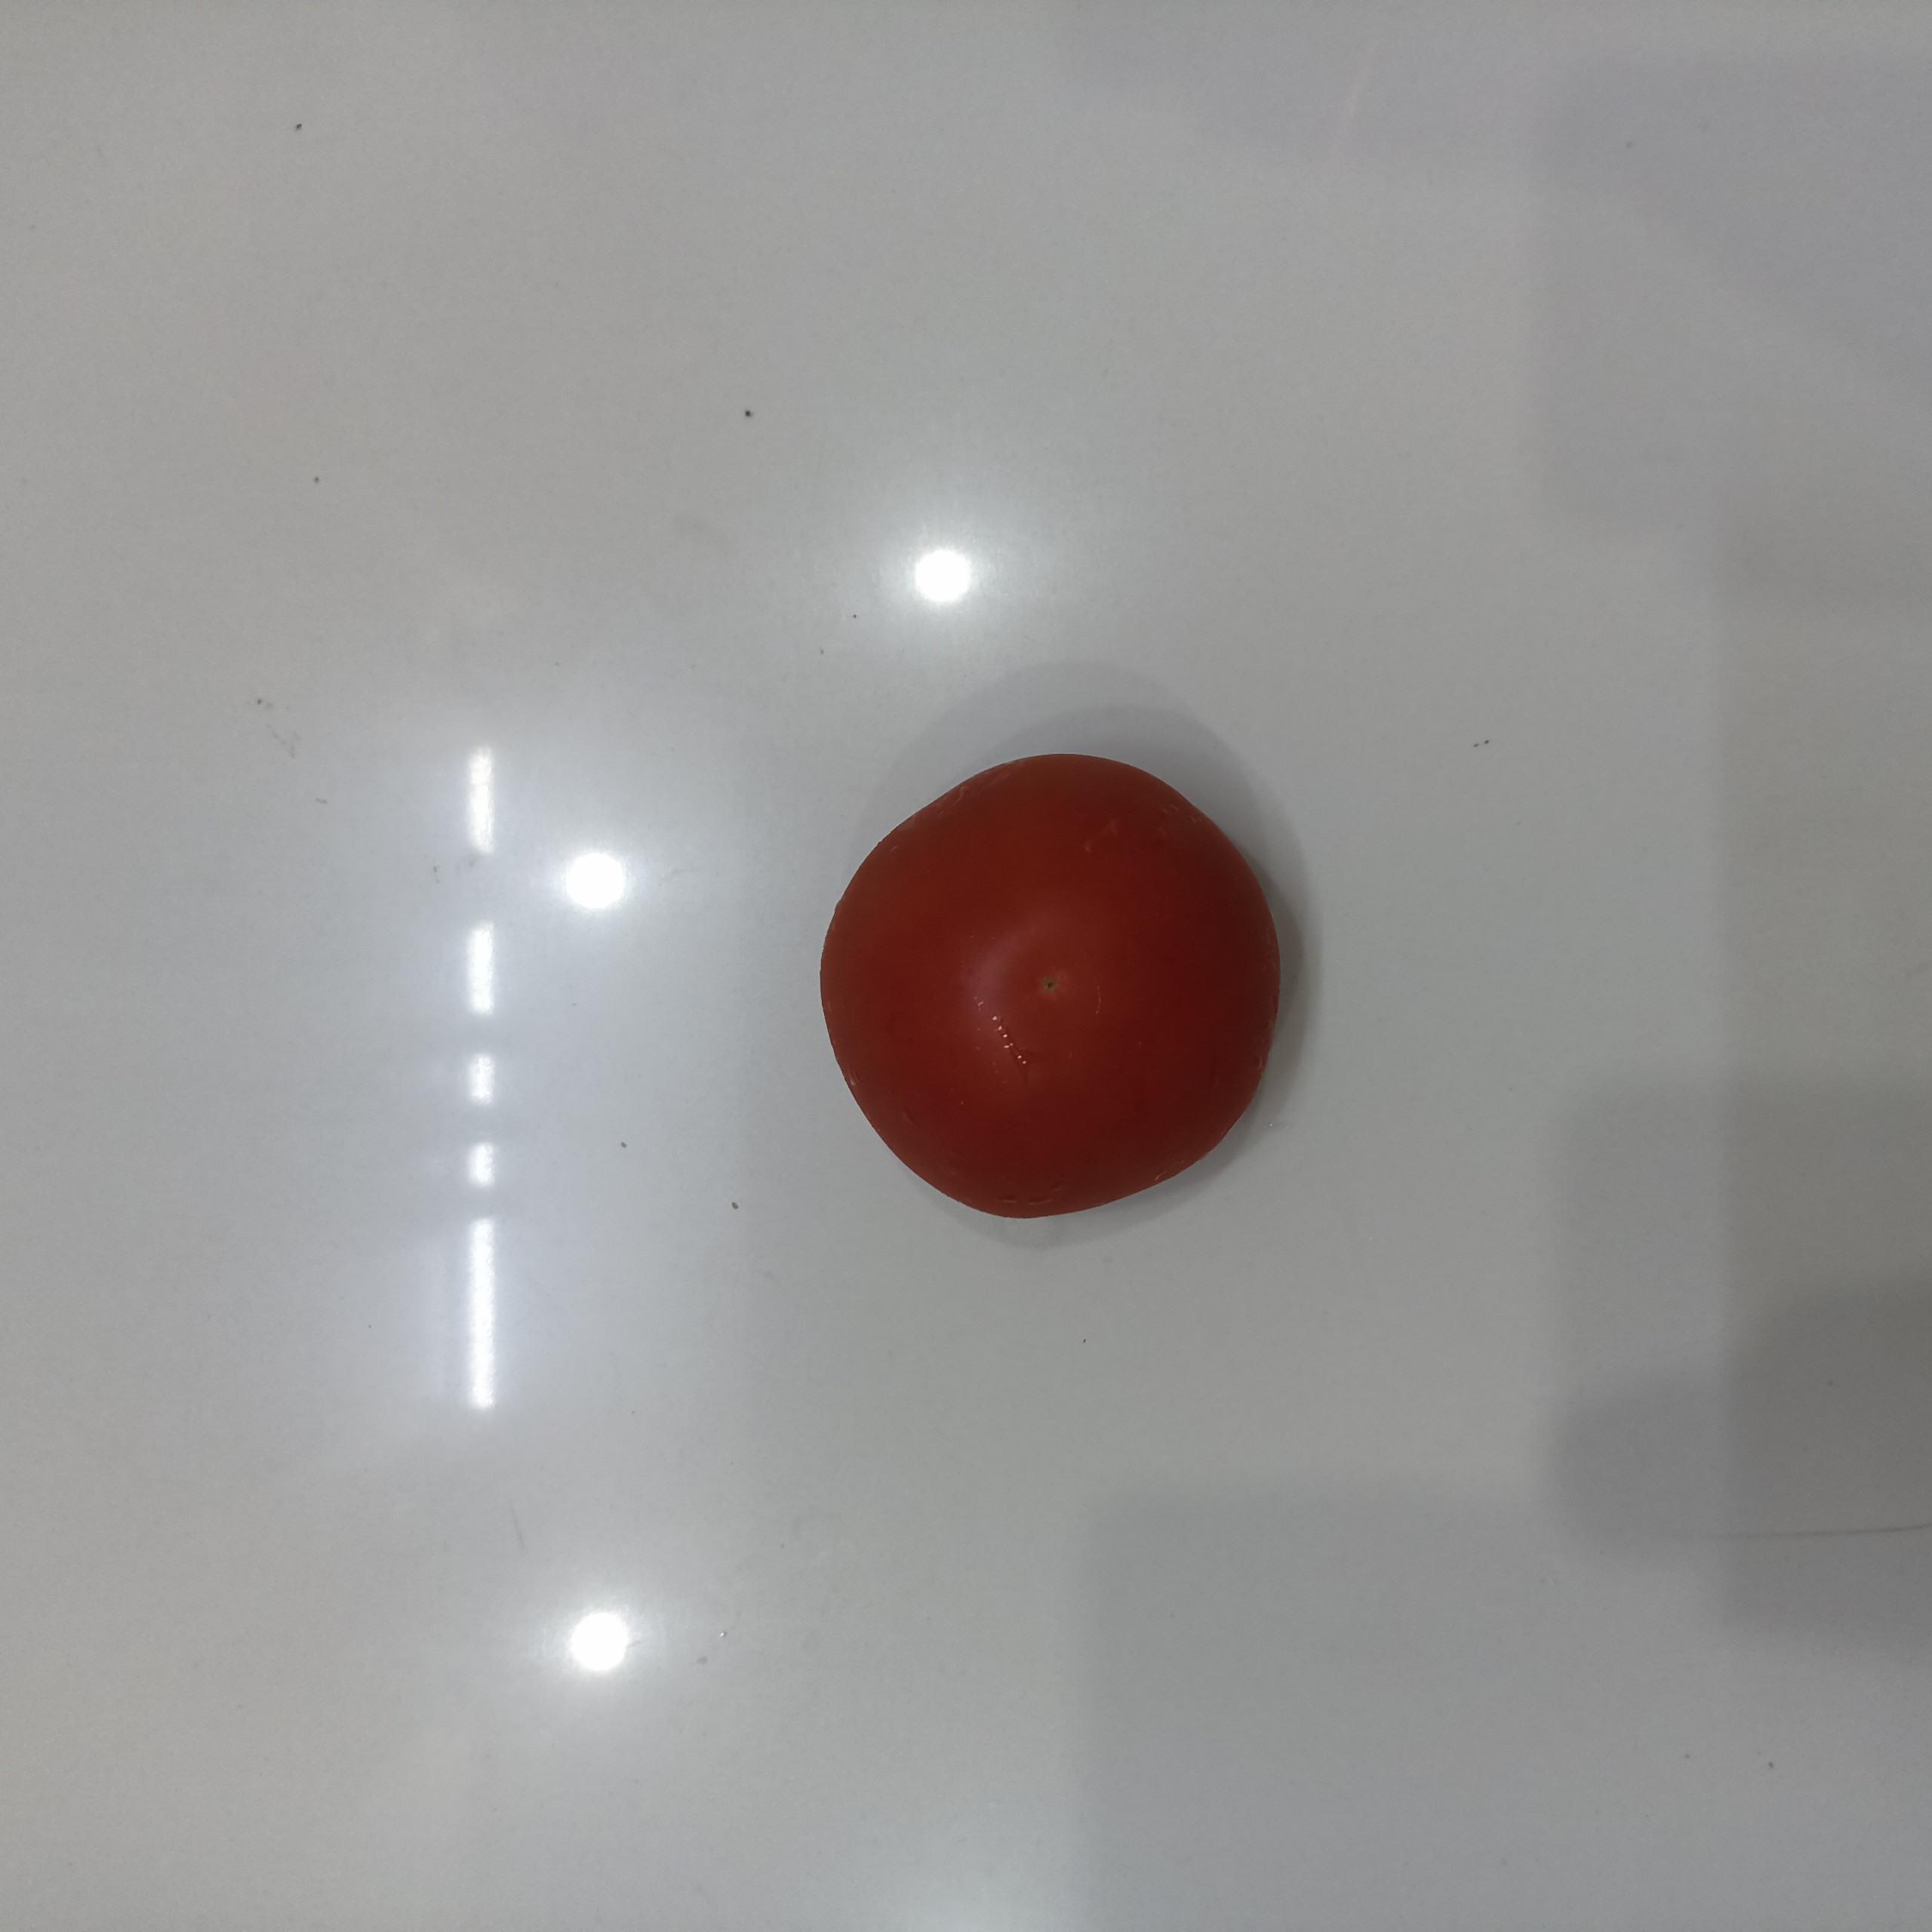Ca chua: (817, 748, 1283, 1230)
